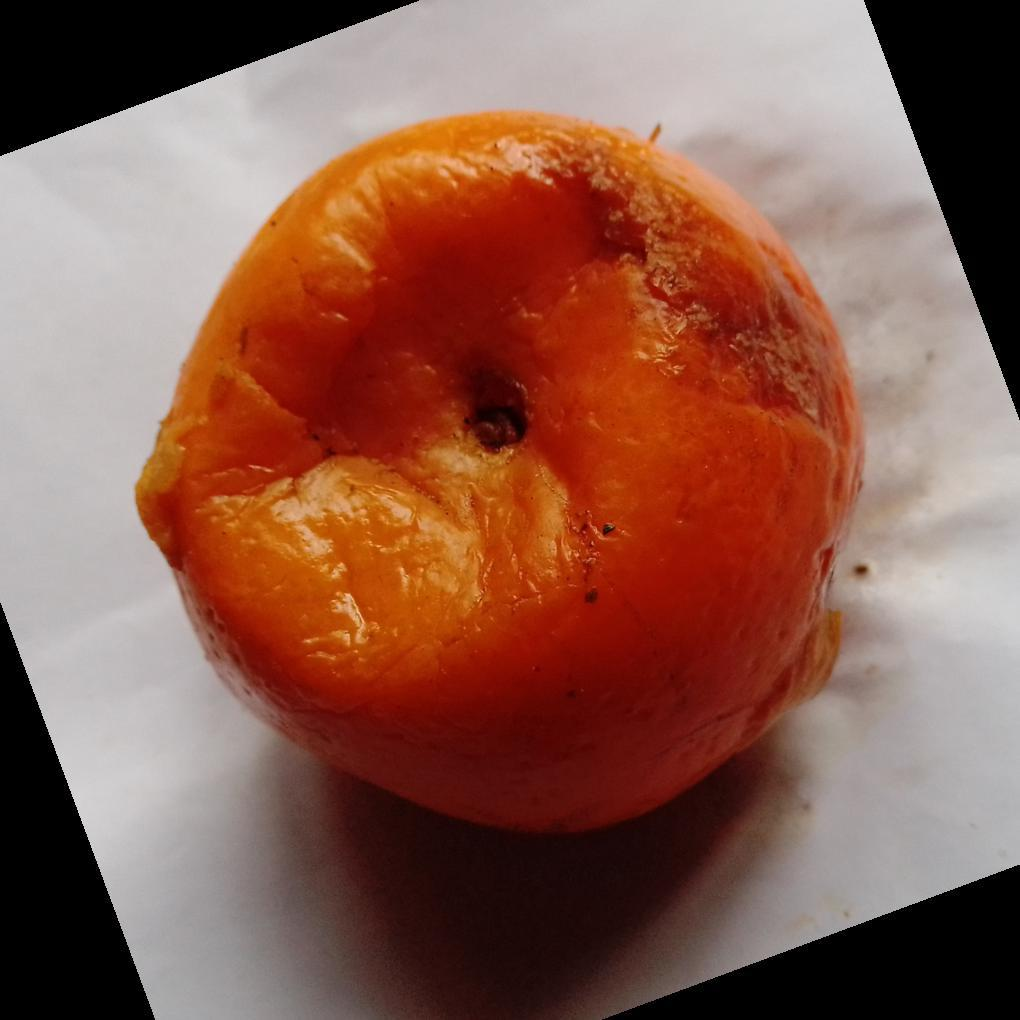FreshOrange: (133, 110, 864, 840)
